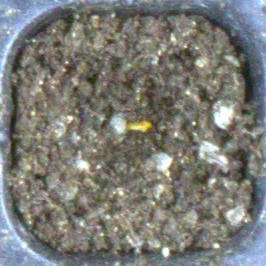pepper seed: (50, 52, 203, 185)
